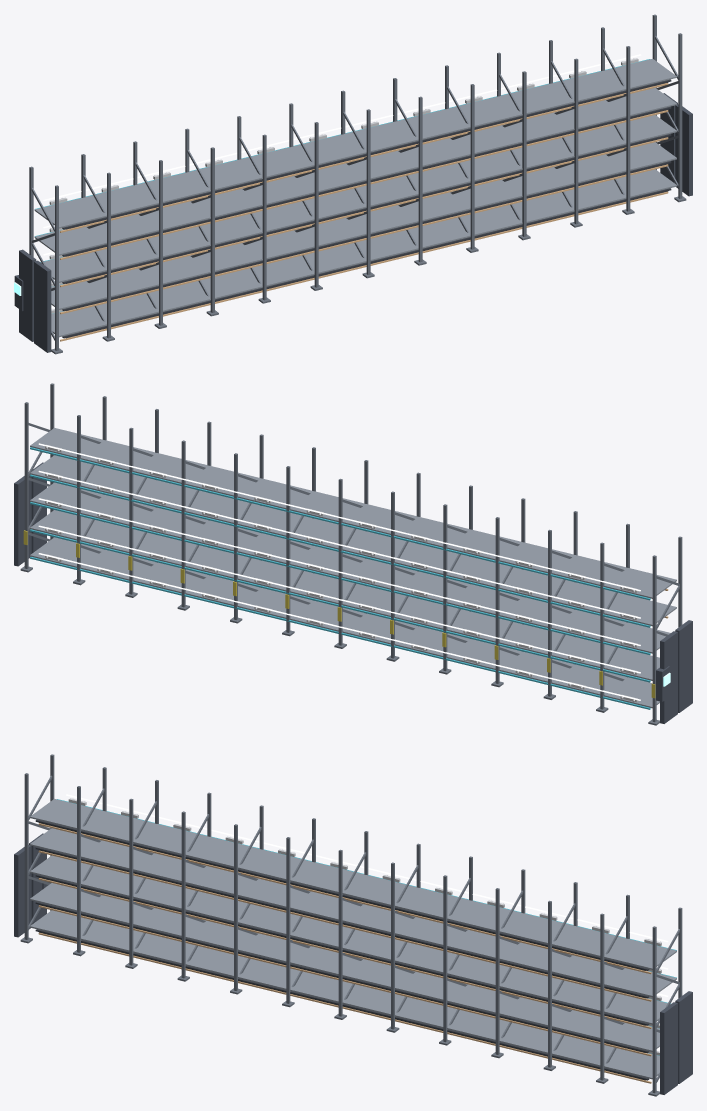
Rendered from aging-rack-v4.glb.
The picture shows the model from 3 angles, top to bottom: view 1: azimuth 30°, elevation 25°; view 2: azimuth 150°, elevation 25°; view 3: azimuth 330°, elevation 25°; orthographic projection.
Visible parts, largest first — view 1: GEO-aging_shelf, GEO-aging_frame, GEO-aging_cable, GEO-aging_copper, GEO-aging_dark, GEO-aging_led, GEO-aging_fixture, GEO-aging_cyan; view 2: GEO-aging_shelf, GEO-aging_frame, GEO-aging_cyan, GEO-aging_led, GEO-aging_dark, GEO-aging_fixture, GEO-aging_yellow; view 3: GEO-aging_shelf, GEO-aging_frame, GEO-aging_cable, GEO-aging_copper, GEO-aging_dark, GEO-aging_led, GEO-aging_fixture, GEO-aging_cyan.
Boxes of the visible parts, x1,y1,x2,y2 form: GEO-aging_shelf: [34, 58, 676, 337]; GEO-aging_frame: [29, 14, 686, 354]; GEO-aging_cable: [62, 79, 671, 338]; GEO-aging_copper: [60, 83, 668, 341]; GEO-aging_dark: [14, 93, 692, 352]; GEO-aging_led: [43, 54, 641, 307]; GEO-aging_fixture: [49, 58, 638, 313]; GEO-aging_cyan: [35, 59, 650, 313]; GEO-aging_shelf: [30, 428, 676, 708]; GEO-aging_frame: [20, 383, 682, 725]; GEO-aging_cyan: [30, 447, 650, 709]; GEO-aging_led: [38, 443, 640, 700]; GEO-aging_dark: [14, 462, 692, 723]; GEO-aging_fixture: [45, 444, 638, 702]; GEO-aging_yellow: [23, 530, 655, 698]; GEO-aging_shelf: [30, 799, 676, 1079]; GEO-aging_frame: [20, 754, 682, 1096]; GEO-aging_cable: [35, 819, 649, 1080]; GEO-aging_copper: [38, 823, 651, 1083]; GEO-aging_dark: [14, 833, 692, 1094]; GEO-aging_led: [66, 794, 668, 1049]; GEO-aging_fixture: [68, 798, 661, 1055]; GEO-aging_cyan: [57, 799, 676, 1055].
Bounding box in the file's own units: 24.96 × 6.1 × 2.15.
